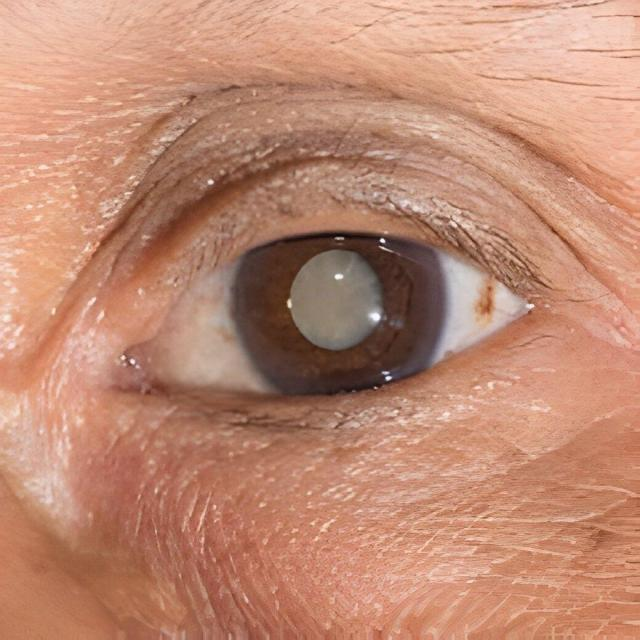Cataract: (214, 208, 466, 408)
